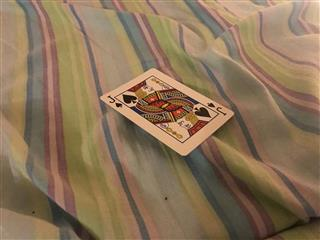JackOfSpades: (98, 67, 234, 157)
